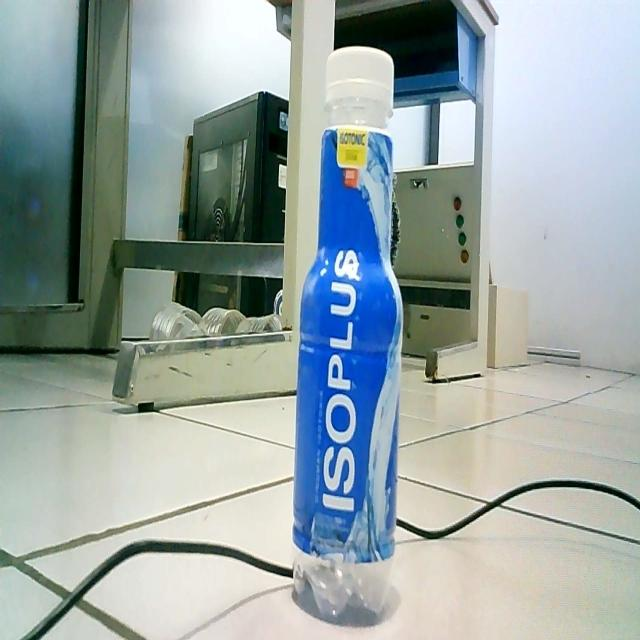botol: (284, 43, 407, 632)
